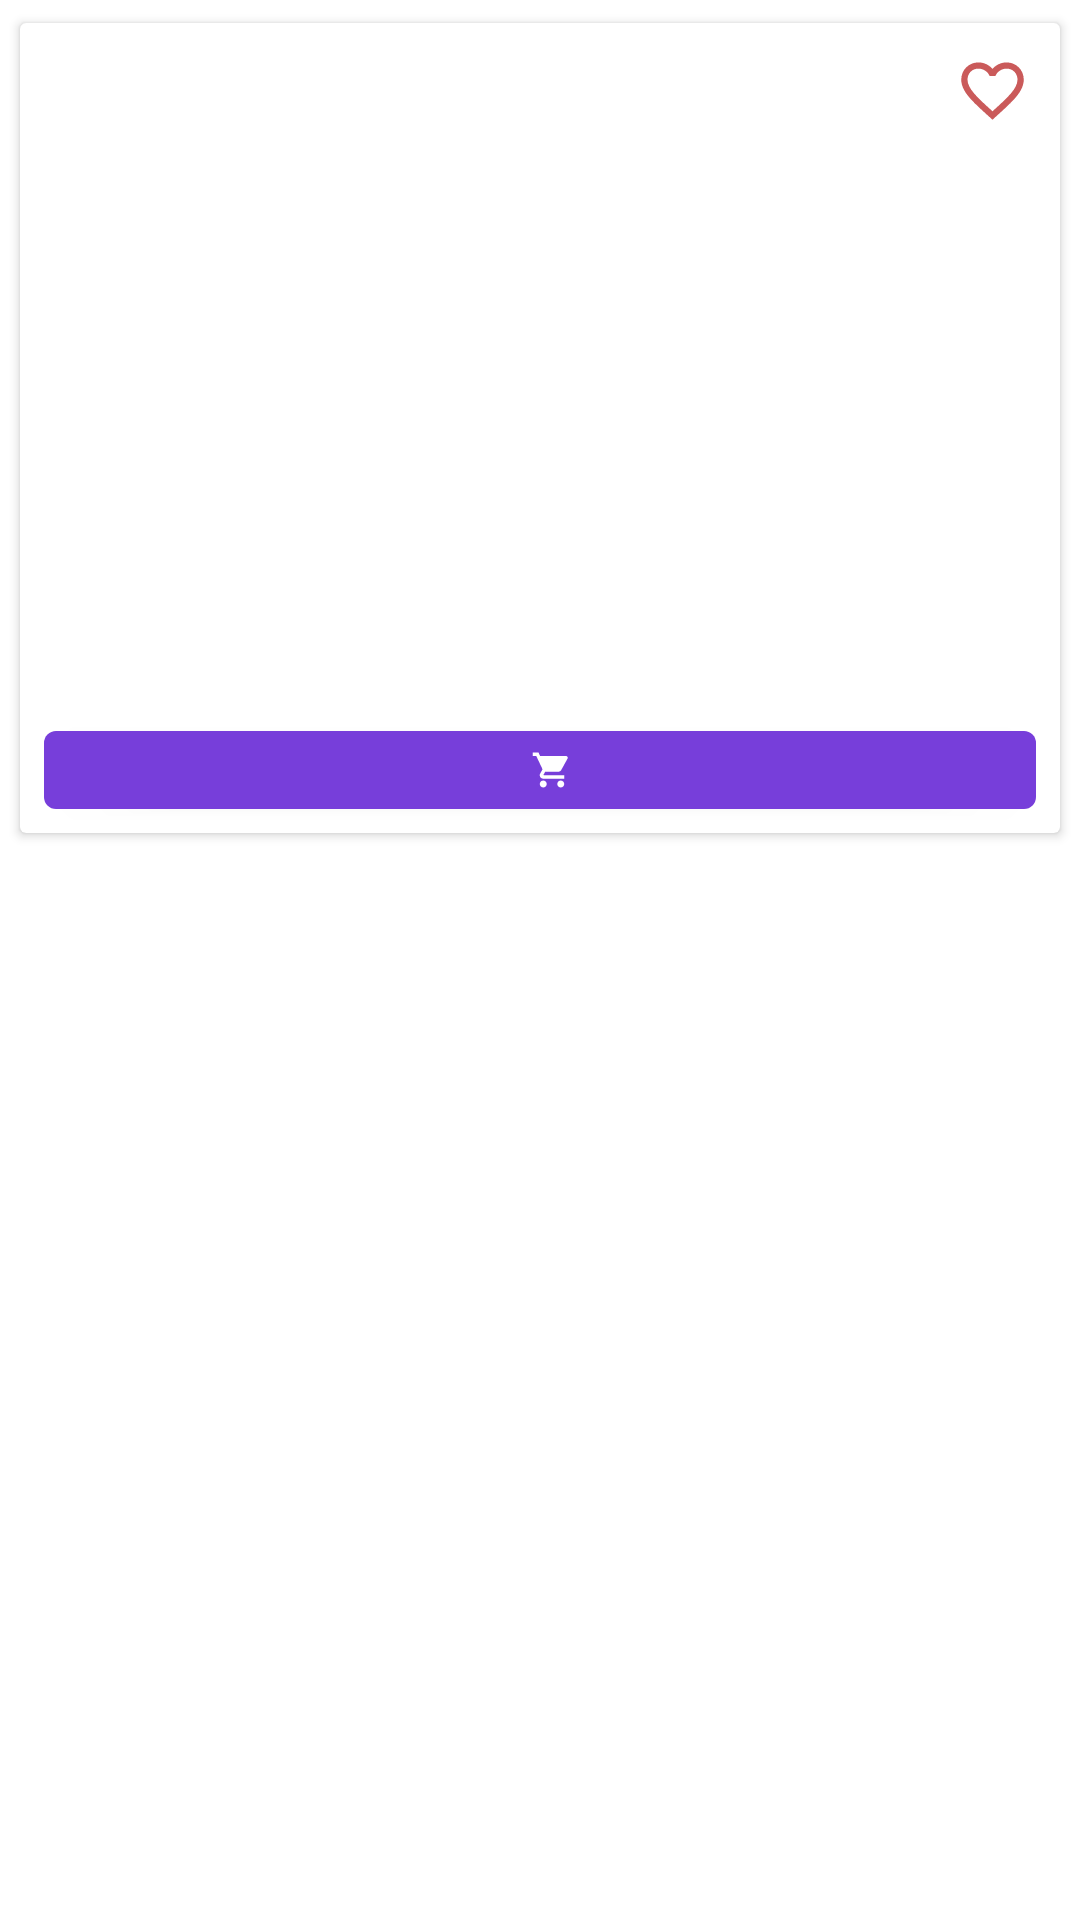

Named icons in this screenshot (1080 x 1920) and their bounding boxes, Rect(x1, y1, x2, y2):
favorite border: Rect(961, 62, 1024, 120)
